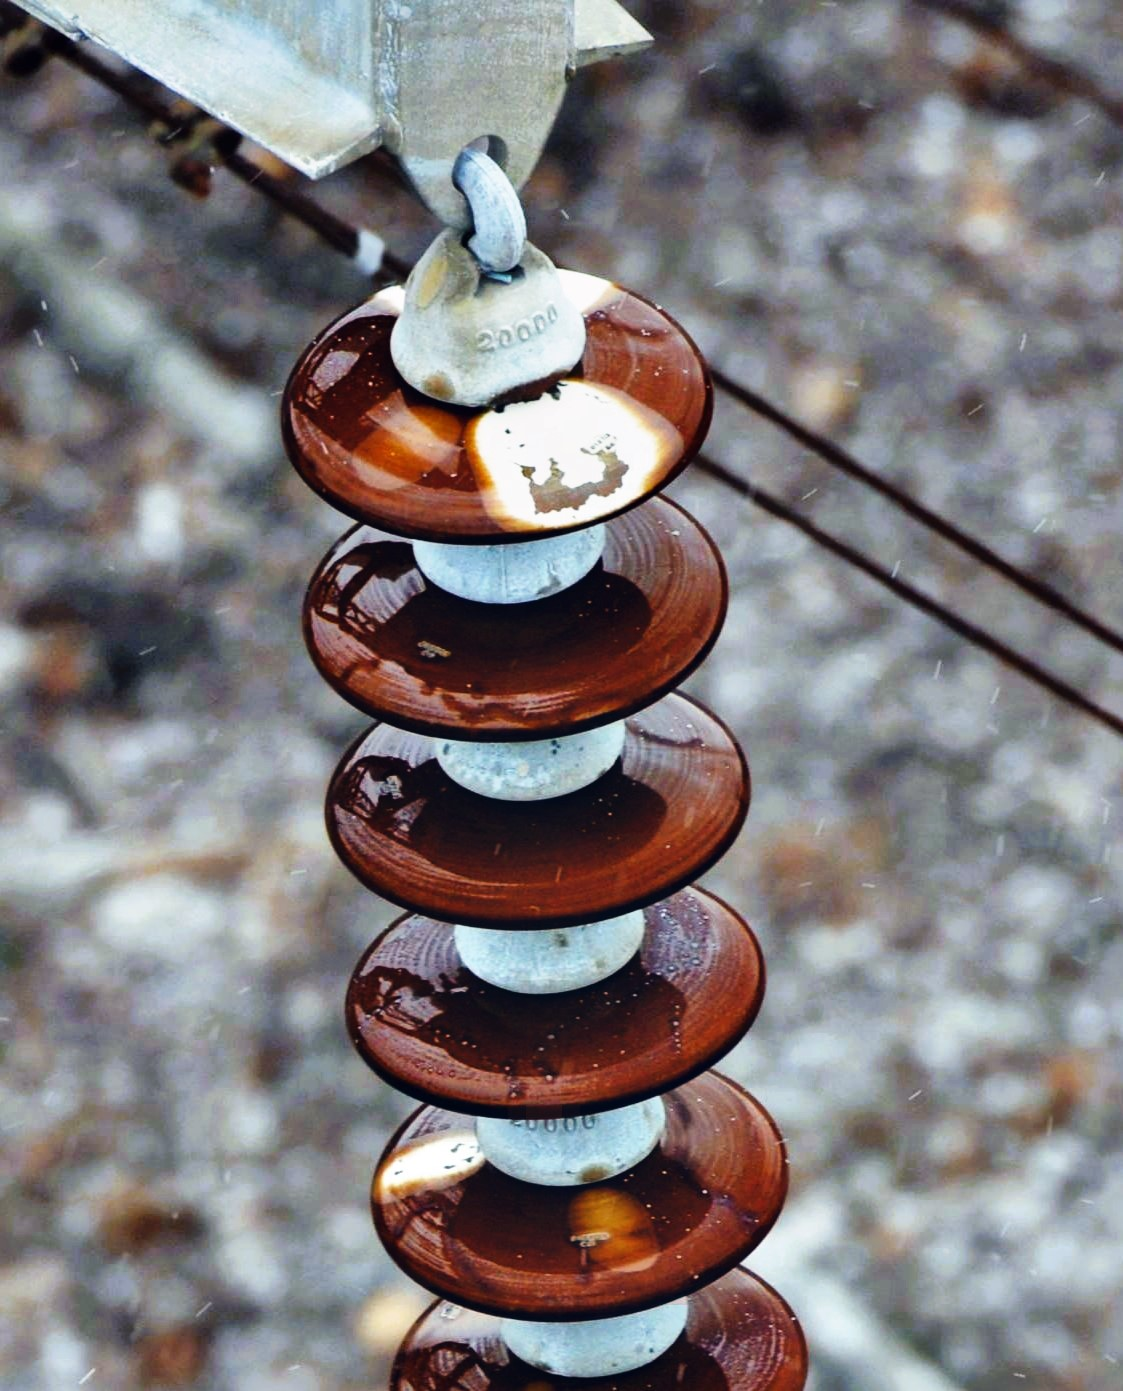Insulator flashover: (237, 241, 727, 552)
